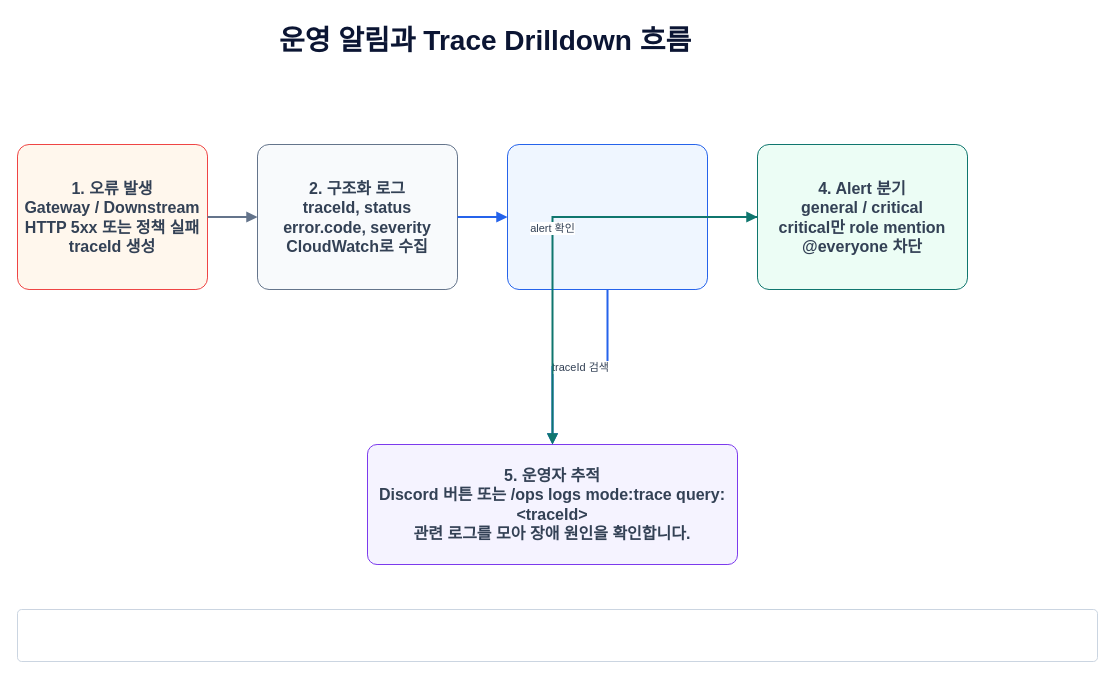
Some shapes in this 1115 by 679 pixel diagram are drawn without their labels. Each missing label, with the centre of its shape:
3. Logs 조회 Logs Insights query traceId 기준 검색 원인 후보 추출: (x=607, y=217)
민감정보 기준: token, guild ID, role ID, 운영 URL, 사용자 개인정보는 데모와 문서에 노출하지 않습니다.: (x=557, y=635)
